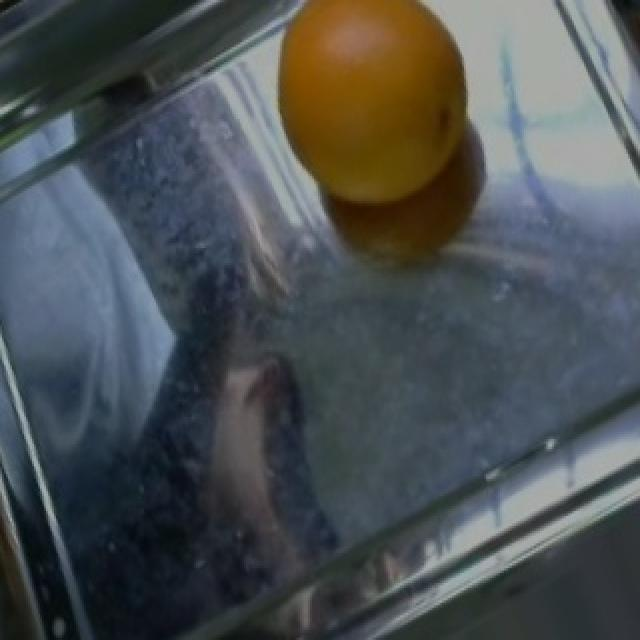Fruit: (242, 0, 500, 228)
